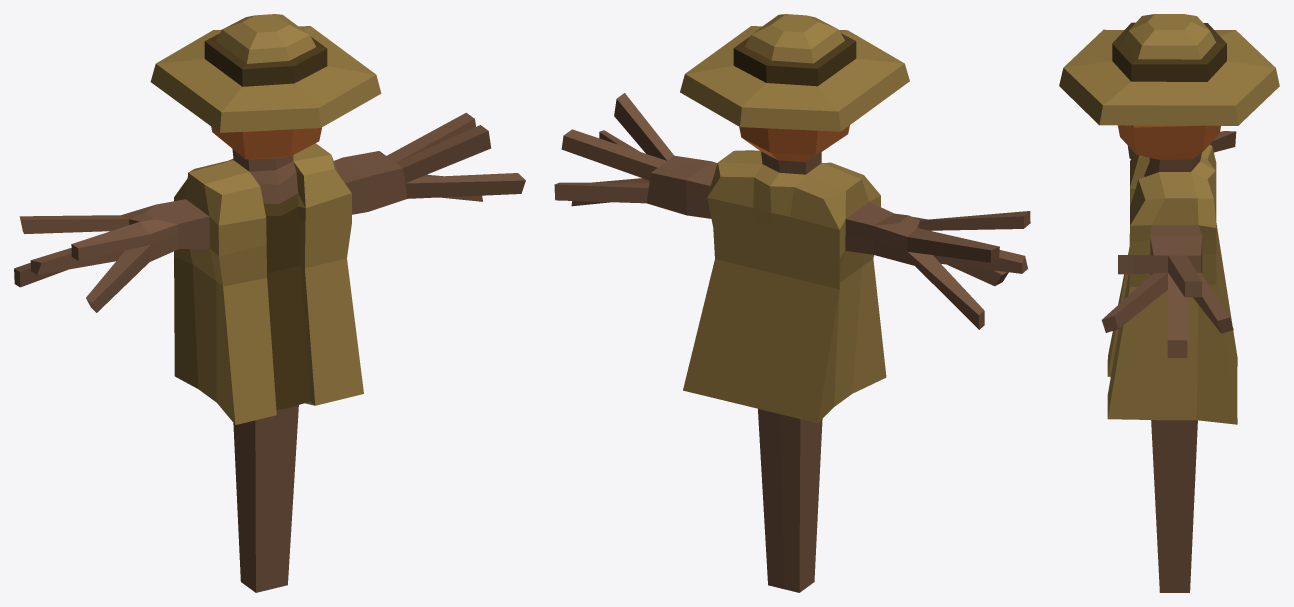
The model's file is ColonistScarecrow.fbx.
3 views of the same model, side by side, from view 1: azimuth 30°, elevation 25°; view 2: azimuth 150°, elevation 25°; view 3: azimuth 270°, elevation 25° (orthographic).
Parts seen in each view (by area): view 1: Scarecrow_Colonist; view 2: Scarecrow_Colonist; view 3: Scarecrow_Colonist.
Part boxes in pixels (<box>): Scarecrow_Colonist: <box>14,14,525,592</box>; Scarecrow_Colonist: <box>554,14,1030,592</box>; Scarecrow_Colonist: <box>1059,14,1279,592</box>.
Size of the model in its own units: 119 by 140 by 49.84.
